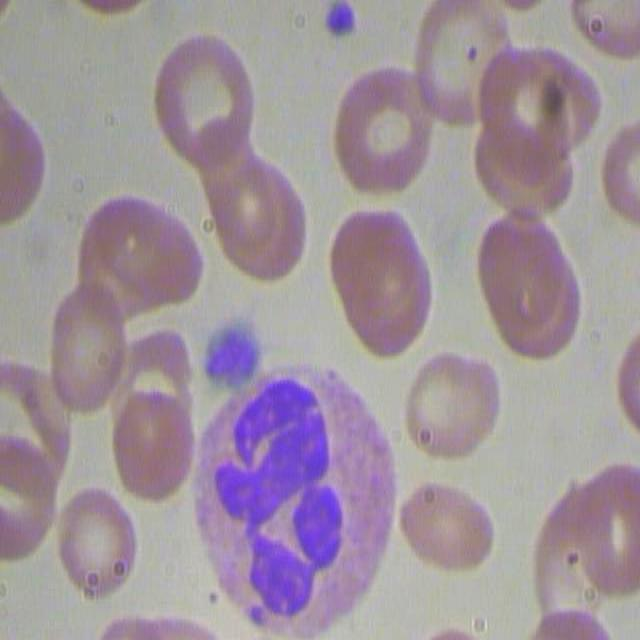RBC: (474, 36, 602, 218), (79, 191, 207, 328), (101, 324, 197, 506), (329, 202, 434, 364), (525, 470, 639, 618), (474, 206, 582, 361), (153, 23, 259, 170), (1, 348, 67, 571), (204, 150, 310, 286), (329, 68, 437, 200), (41, 276, 132, 416), (411, 0, 508, 128), (396, 348, 498, 466), (394, 472, 496, 577), (55, 490, 142, 604), (0, 97, 45, 232), (566, 0, 640, 65), (602, 116, 640, 235)
WBC: (199, 350, 388, 635)
platelets: (321, 0, 363, 44)
